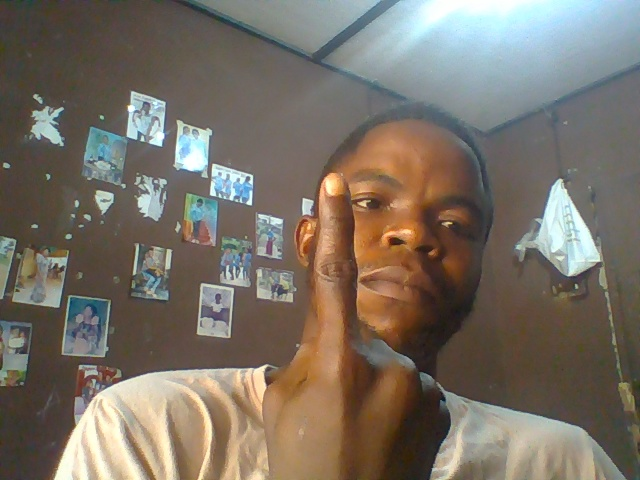Up: (265, 166, 455, 478)
